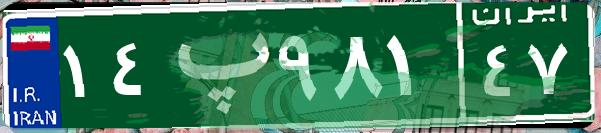1: (385, 28, 445, 110), (57, 26, 110, 107)
4: (475, 38, 525, 113), (110, 28, 158, 105)
7: (525, 38, 570, 115)
8: (330, 28, 385, 110)
9: (273, 28, 330, 110)
پ: (158, 15, 273, 115)
